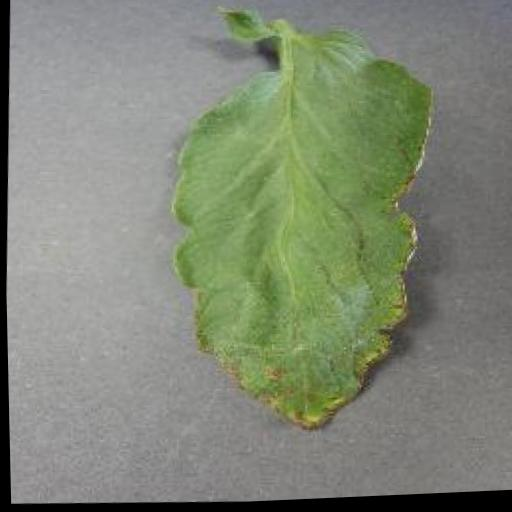Bacterial Spot: (156, 19, 441, 446)
